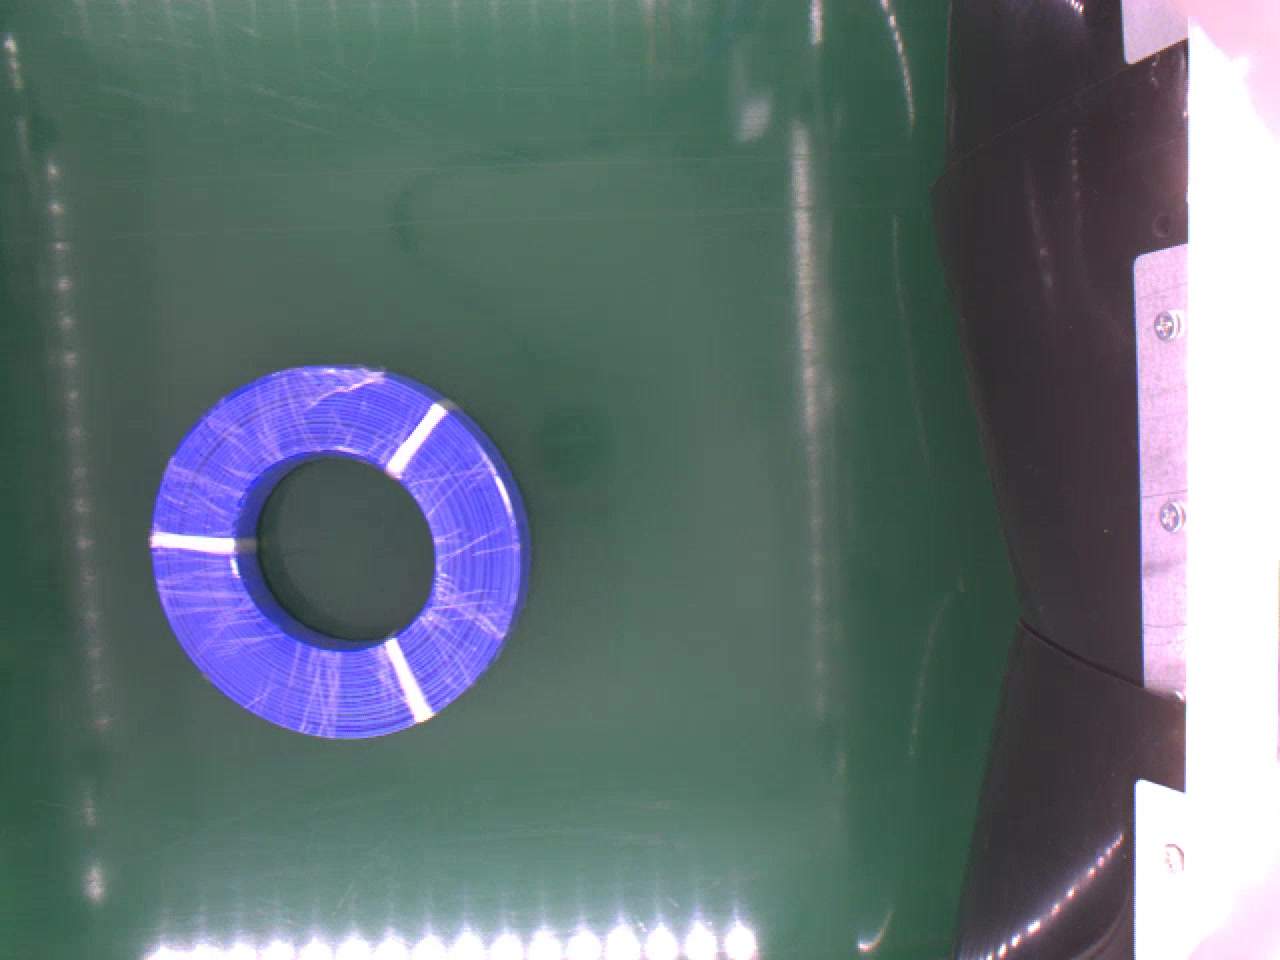blue: (146, 368, 527, 735)
